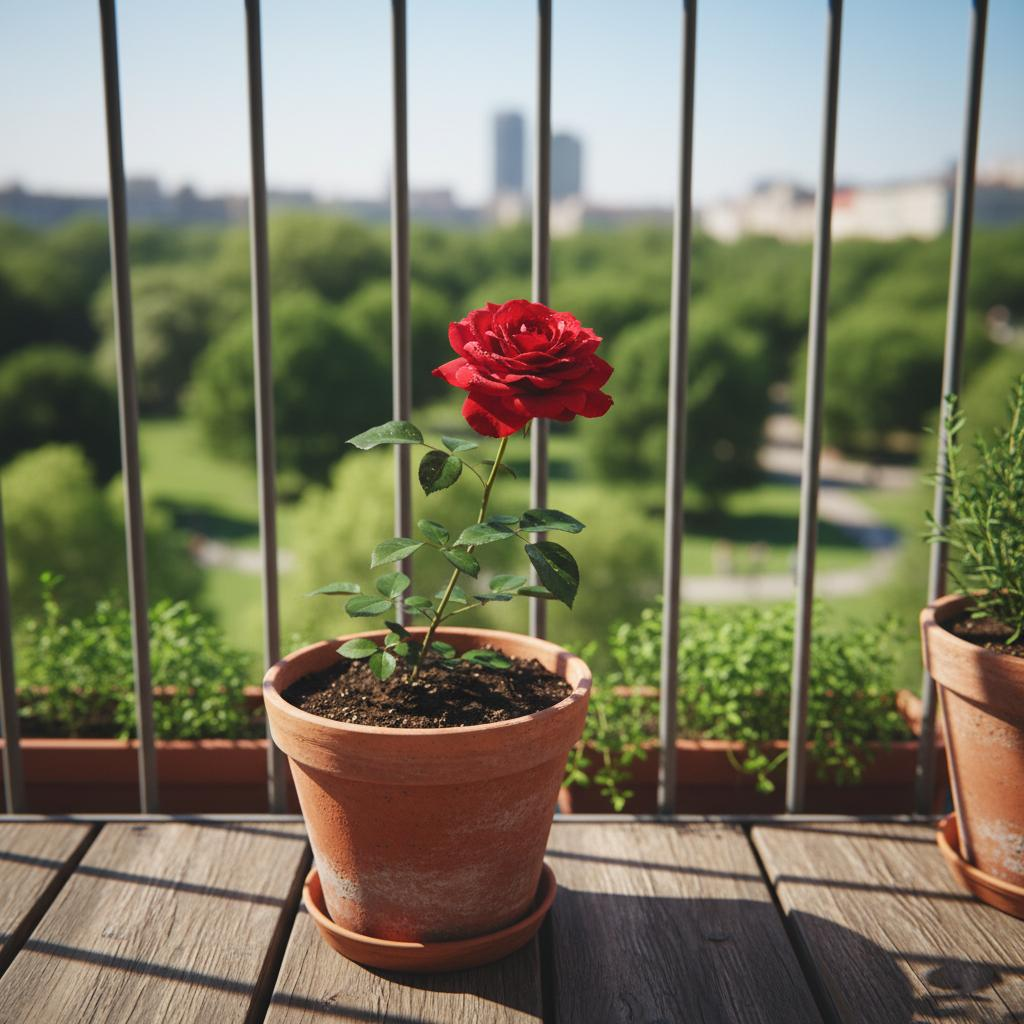rose: (430, 297, 615, 439)
